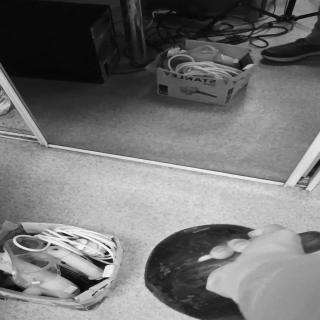girya: (143, 224, 320, 320)
